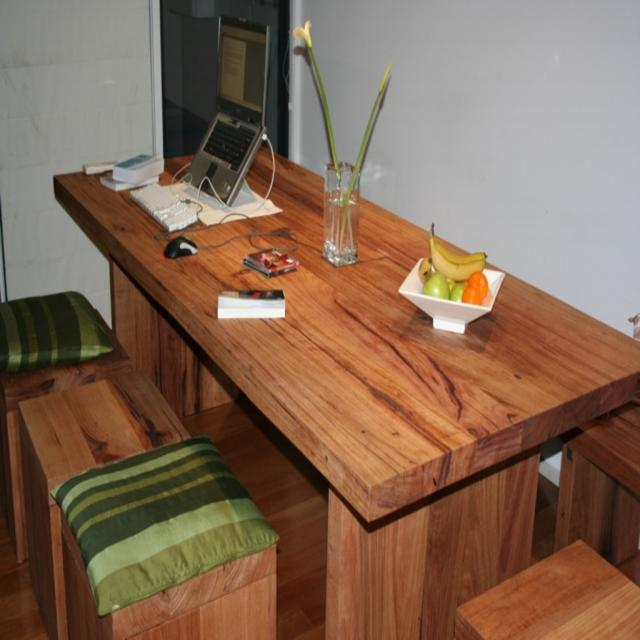desk: (53, 140, 639, 639)
laptop: (167, 14, 272, 212)
mouse: (164, 236, 198, 259)
